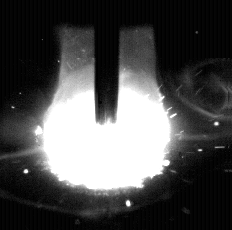arame: (96, 0, 119, 125)
poca: (42, 0, 171, 230)
